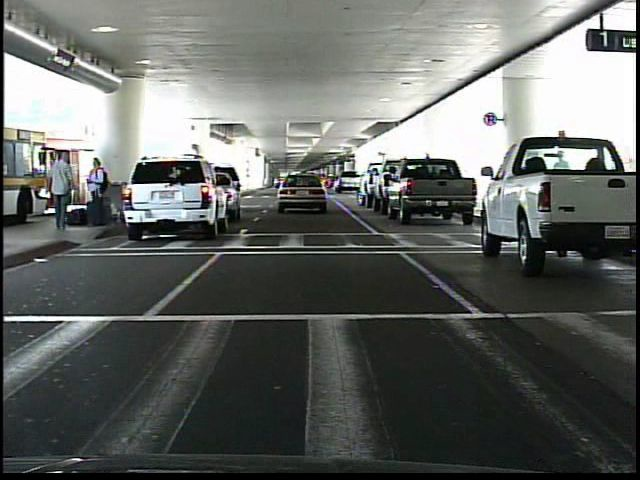person: (50, 150, 83, 235), (86, 155, 112, 229)
